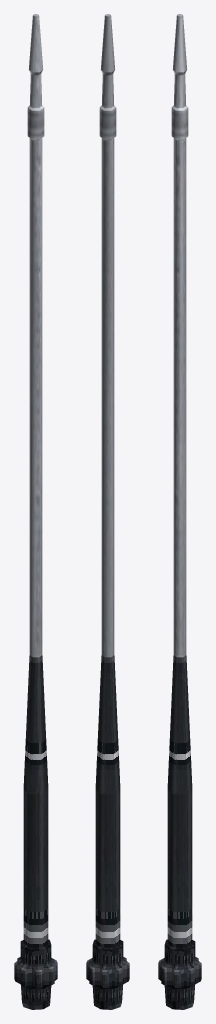
Rendered from wp_mle_lance_controller_l0.fbx.
The picture shows the model from 3 angles, left to right: view 1: azimuth 30°, elevation 25°; view 2: azimuth 150°, elevation 25°; view 3: azimuth 330°, elevation 25°; orthographic projection.
Visible parts, largest first — view 1: mesh_node; view 2: mesh_node; view 3: mesh_node.
Boxes of the visible parts, bbox=[...] form: mesh_node: bbox=[14, 14, 57, 1009]; mesh_node: bbox=[86, 14, 129, 1009]; mesh_node: bbox=[158, 14, 201, 1009].
Size of the model in its own units: 0.065 by 1.71 by 0.065.
